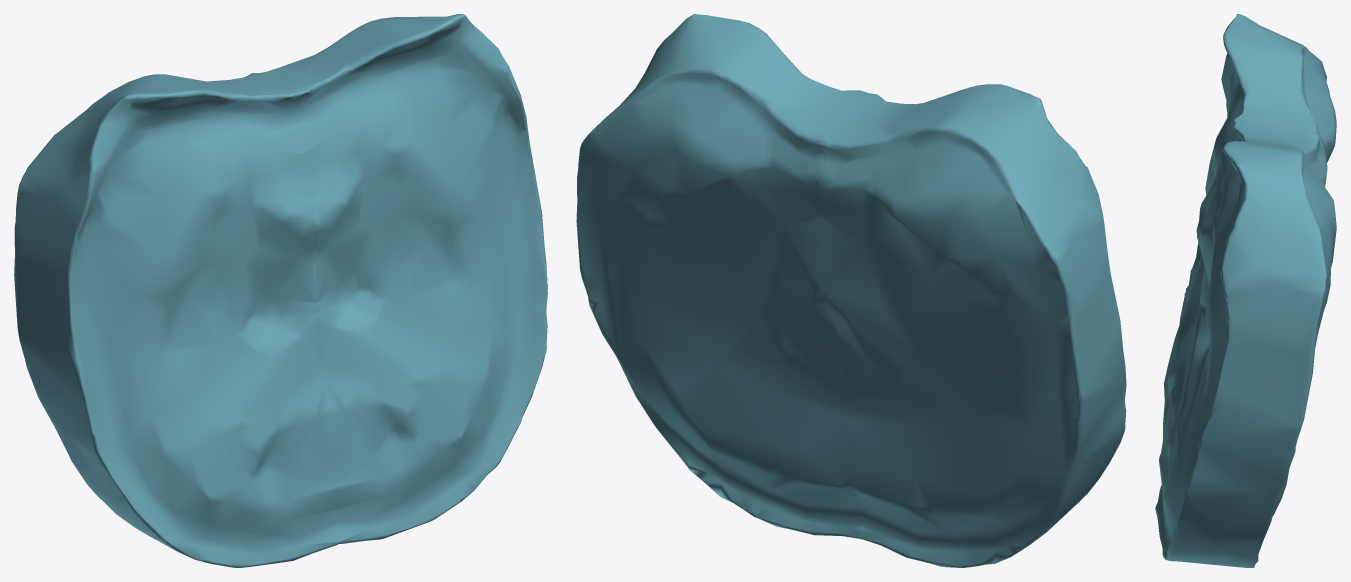
The picture shows the model from 3 angles, left to right: view 1: azimuth 30°, elevation 25°; view 2: azimuth 150°, elevation 25°; view 3: azimuth 270°, elevation 25°; orthographic projection. The views are drawn at different scales.
Visible parts, largest first — view 1: 胸8—胸9椎间盘; view 2: 胸8—胸9椎间盘; view 3: 胸8—胸9椎间盘.
Boxes of the visible parts, x1,y1,x2,y2 form: 胸8—胸9椎间盘: (14, 14, 547, 567); 胸8—胸9椎间盘: (576, 14, 1126, 567); 胸8—胸9椎间盘: (1155, 14, 1336, 567).
Bounding box in the file's own units: 0.0563 × 0.0522 × 0.0197.
